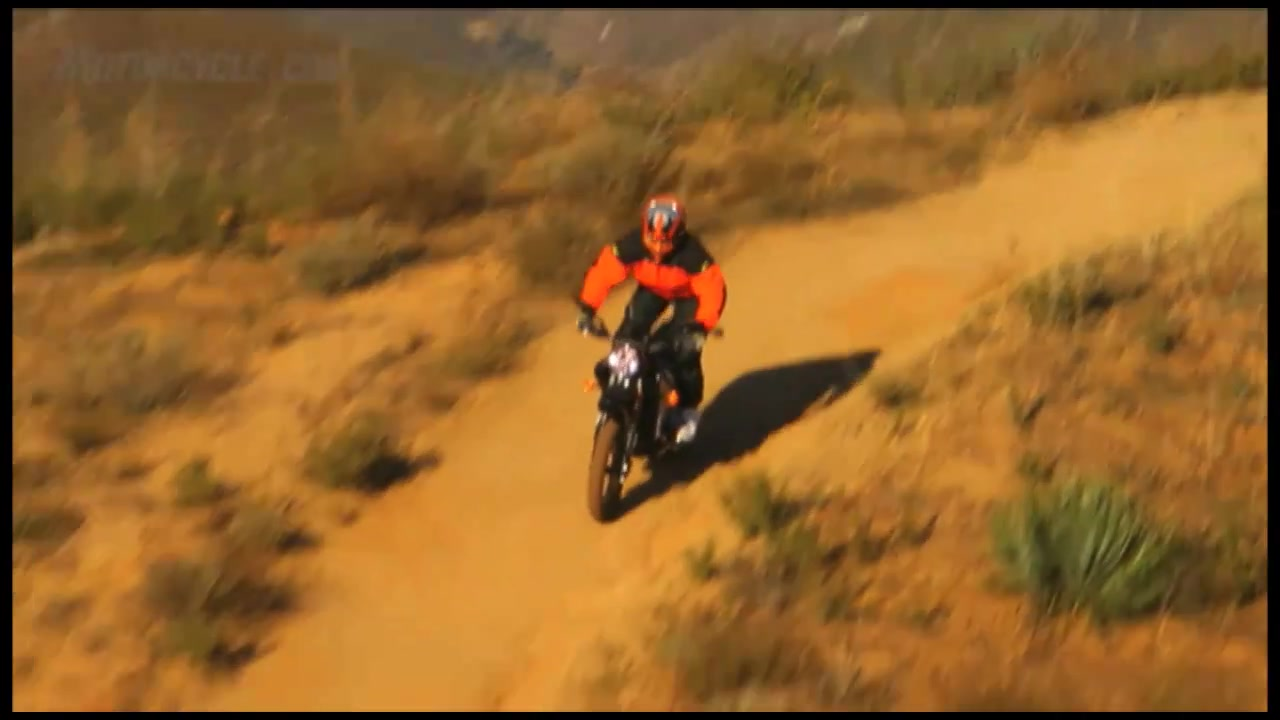motorbike: (582, 311, 712, 525)
